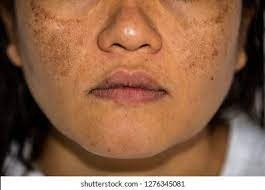Melasma: (25, 0, 91, 82), (171, 0, 236, 80), (115, 3, 140, 25)
